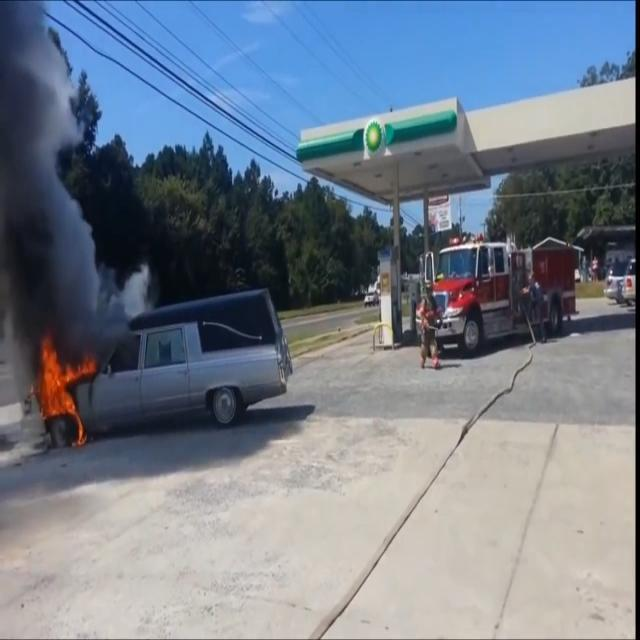fire: (23, 330, 98, 450)
